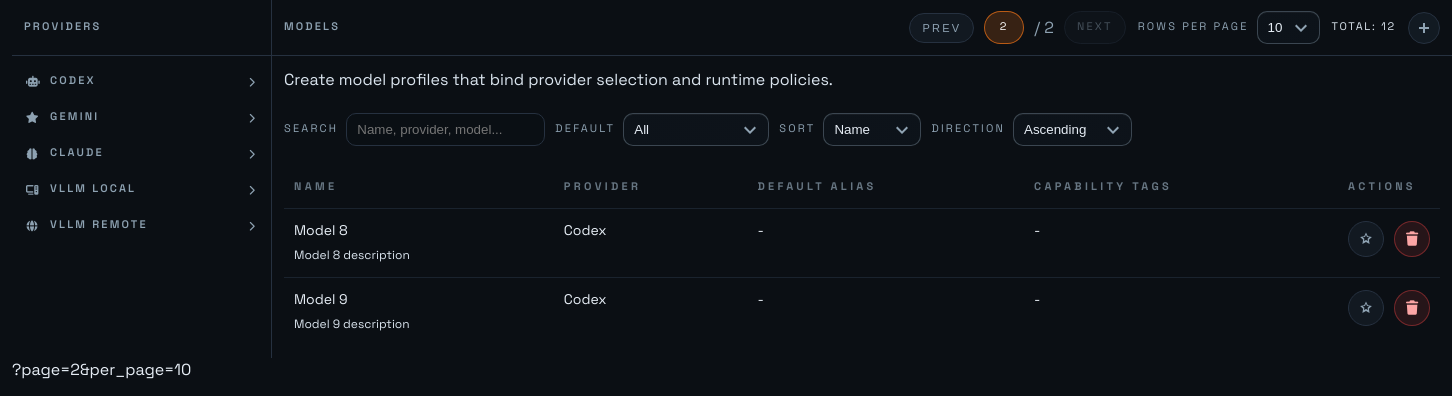
Test: ModelsPage › search changes reset pagination to first page
Expected: the link "Model 8" is shown, [294, 222, 348, 240]
Expected: the text with test id "models-route-search" reads "?page=2&per_page=10", [12, 358, 191, 380]
Type "Focus target" into the search field labelled "Search" at (446, 130), box [346, 113, 545, 146]
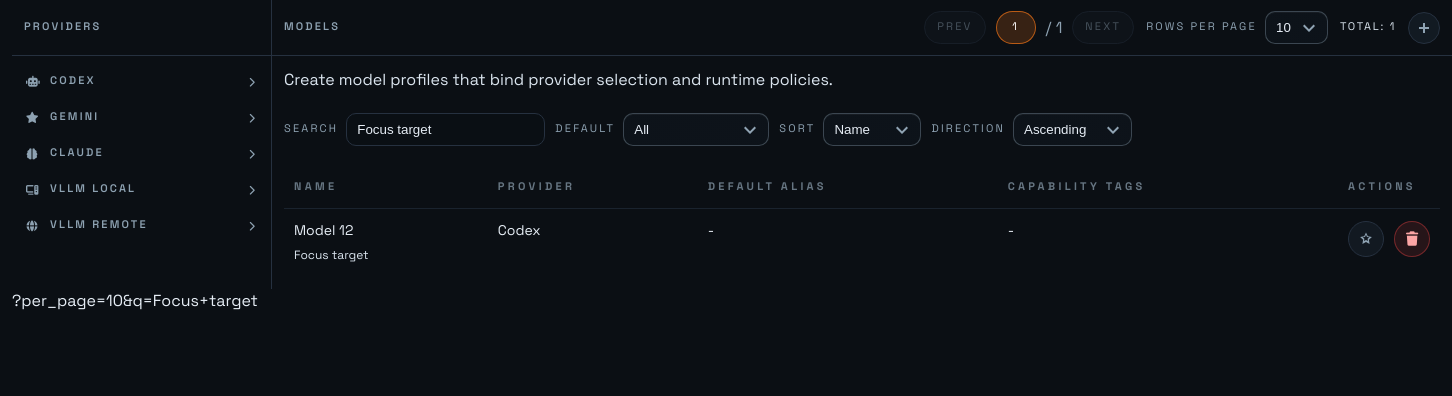
Now the link "Model 12" is shown, box [294, 222, 353, 240]
Now the link "Model 8" is gone
Now the text with test id "models-route-search" shows "q=Focus+target", box [12, 290, 258, 311]
